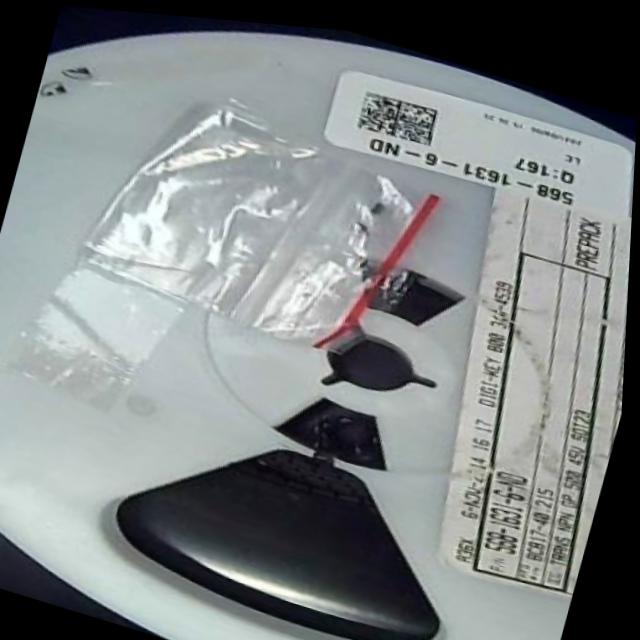datamatrix: (352, 75, 446, 144)
